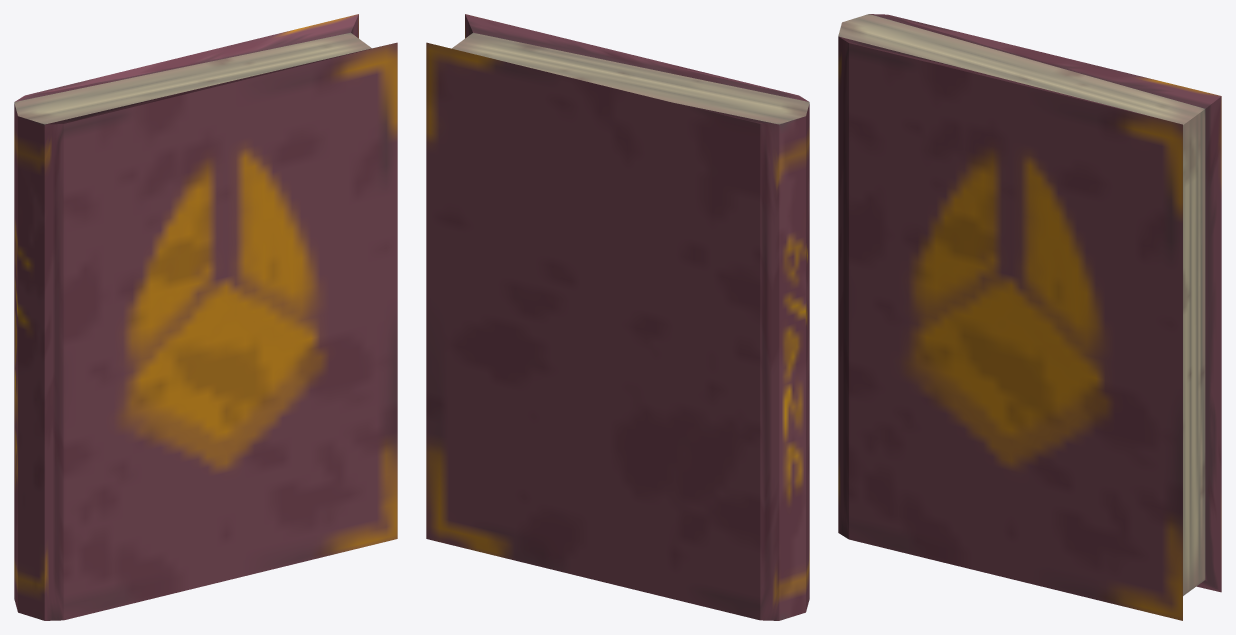
The model's file is Tattered_Book.fbx.
3 views of the same model, side by side, from view 1: azimuth 30°, elevation 25°; view 2: azimuth 150°, elevation 25°; view 3: azimuth 330°, elevation 25° (orthographic).
Parts seen in each view (by area): view 1: Book; view 2: Book; view 3: Book.
Part boxes in pixels (x1,y1,x2,y2): Book: (14,14,397,620); Book: (426,14,809,620); Book: (838,14,1221,620).
Bounding box in the file's own units: 149 × 196 × 27.83.
